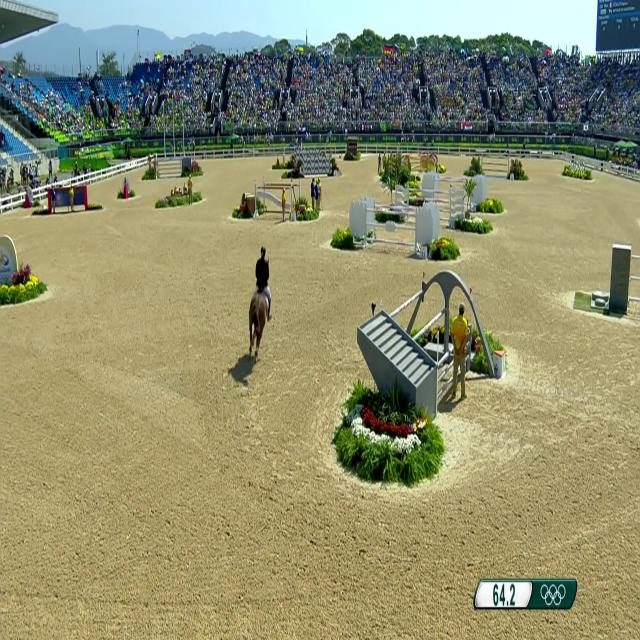Horse Running: (245, 269, 276, 393)
